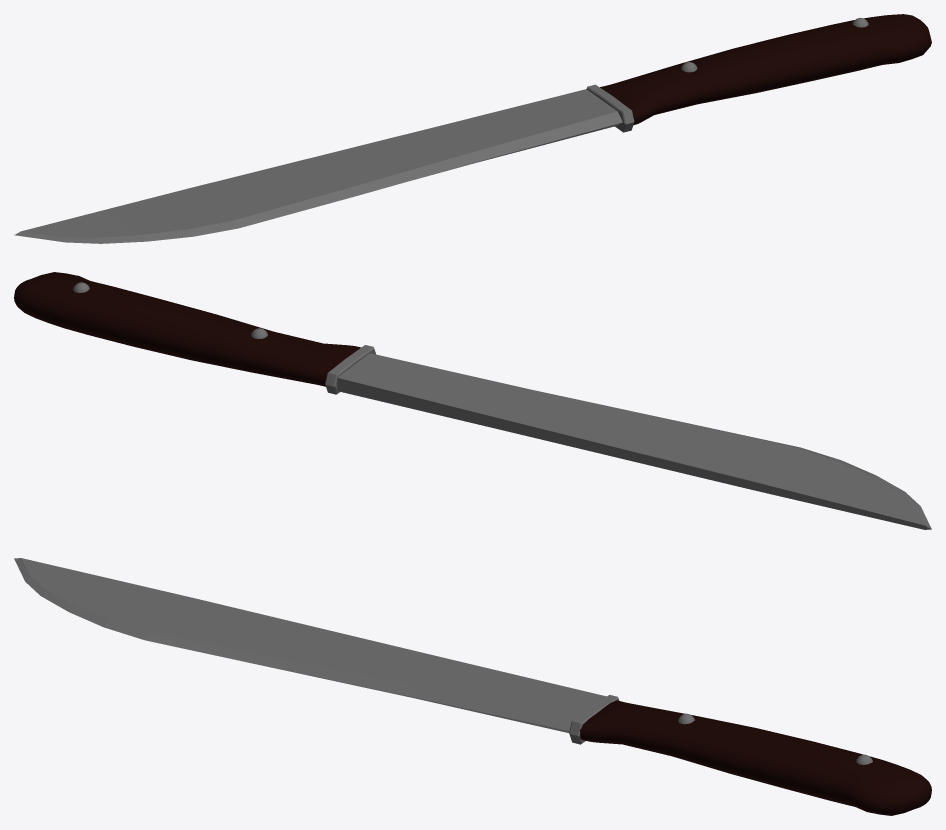
The model's file is MSH_Machete.FBX.
3 renders of one model, top to bottom at view 1: azimuth 30°, elevation 25°; view 2: azimuth 150°, elevation 25°; view 3: azimuth 330°, elevation 25°, orthographic. The views are drawn at different scales.
Visible parts, largest first — view 1: MSH_Machete; view 2: MSH_Machete; view 3: MSH_Machete.
Part boxes in pixels (x1=…): MSH_Machete: x1=14, y1=14, x2=931, y2=243; MSH_Machete: x1=14, y1=272, x2=931, y2=529; MSH_Machete: x1=14, y1=558, x2=931, y2=815.
Bounding box in the file's own units: 67.23 × 3.34 × 6.79.
